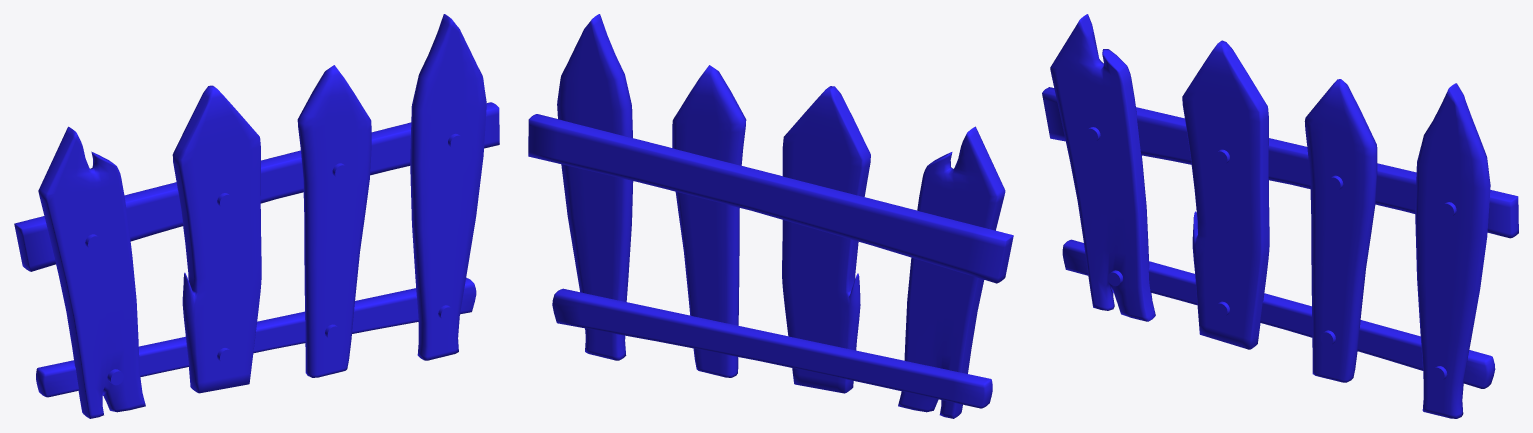
The model's file is Vaya.FBX.
3 renders of one model, left to right at view 1: azimuth 30°, elevation 25°; view 2: azimuth 150°, elevation 25°; view 3: azimuth 330°, elevation 25°, orthographic.
Parts seen in each view (by area): view 1: Cylinder003; view 2: Cylinder003; view 3: Cylinder003.
Boxes of the visible parts, <box> form: Cylinder003: <box>14,14,499,418</box>; Cylinder003: <box>528,14,1013,418</box>; Cylinder003: <box>1042,14,1518,418</box>.
Bounding box in the file's own units: 952 × 638 × 66.51.
